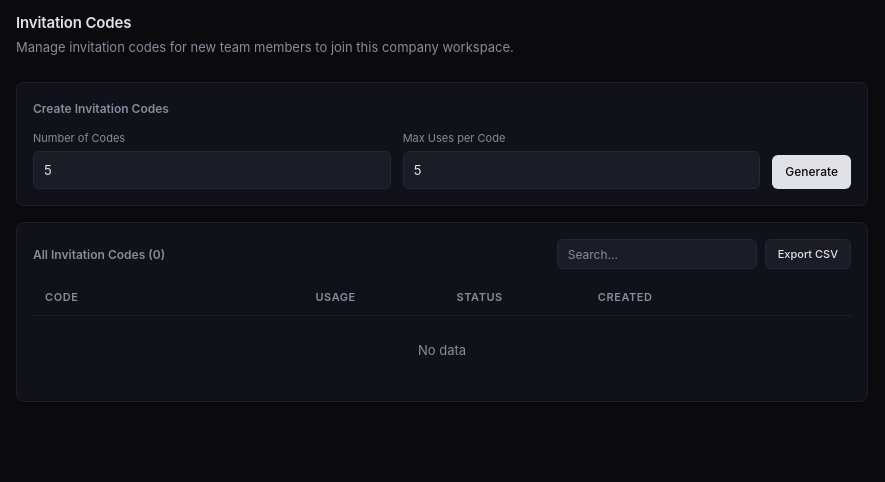
Scenario: InvitationCodes recovery › restores the generate action after a failed request
Click the button "Generate": (812, 172) [772, 155, 851, 189]
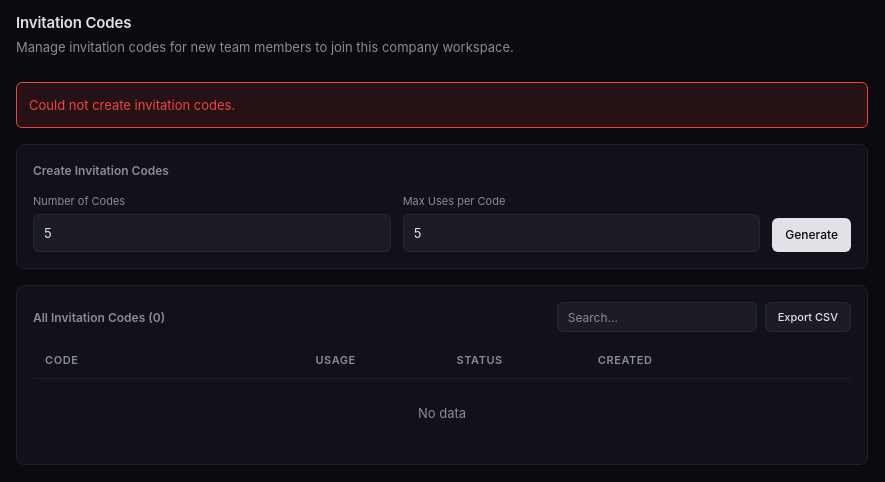
Expected: the button "Generate" is enabled, [772, 218, 851, 252]
Now the message reads "Could not create invitation codes.", box [29, 96, 235, 112]
